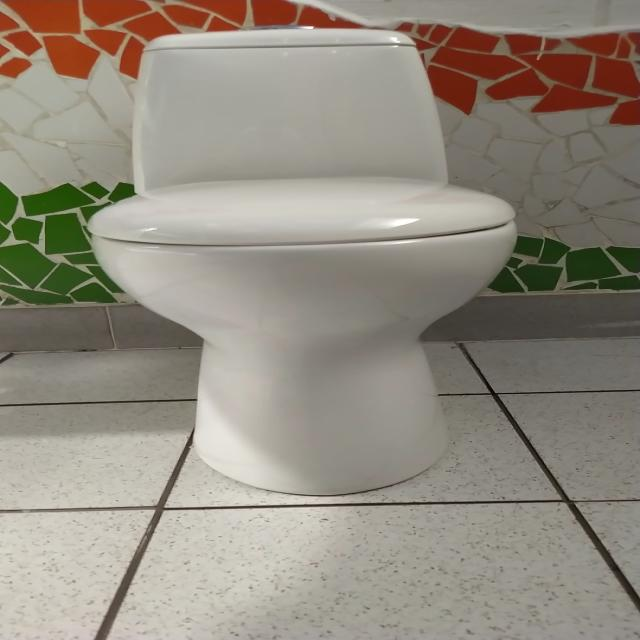toilet: (86, 26, 518, 496)
